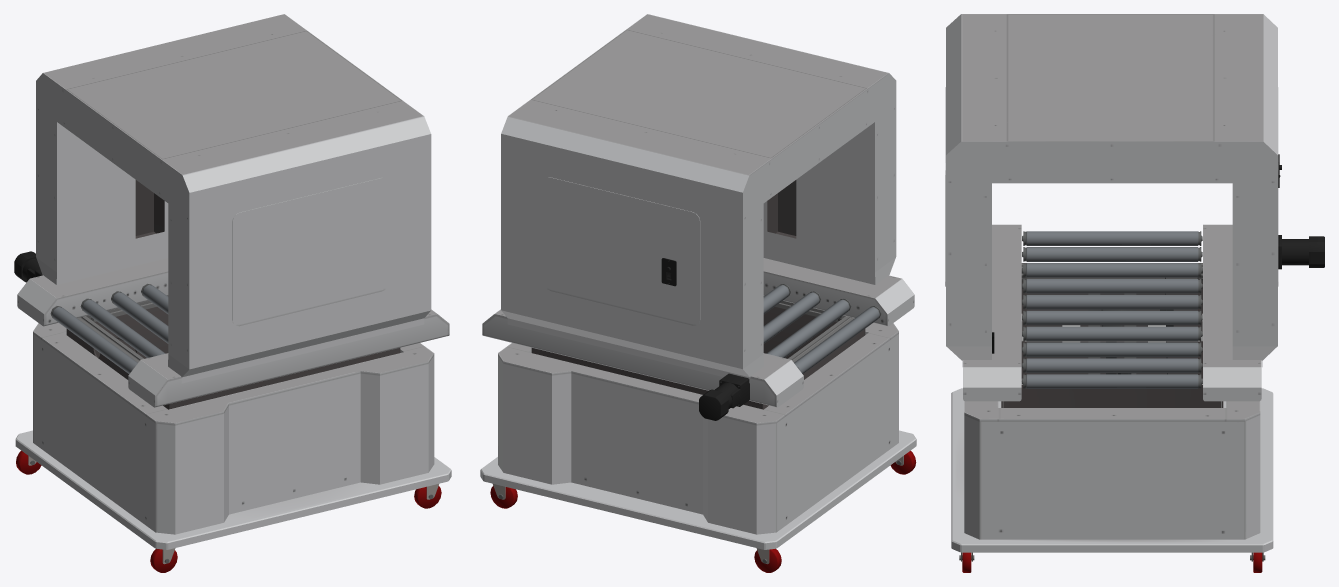
The model's file is btpBaggage.glb.
3 renders of one model, left to right at view 1: azimuth 30°, elevation 25°; view 2: azimuth 150°, elevation 25°; view 3: azimuth 270°, elevation 25°, orthographic. The views are drawn at different scales.
Visible parts, largest first — view 1: baggage; view 2: baggage; view 3: baggage.
Part boxes in pixels (x1,y1,x2,y2): baggage: [14, 14, 451, 572]; baggage: [480, 14, 916, 572]; baggage: [945, 14, 1324, 572].
Size of the model in its own units: 1.19 by 1.52 by 1.22.
1 material, 1 textured.
